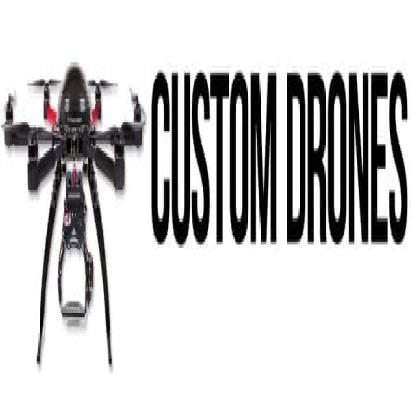drone: (0, 23, 150, 281)
